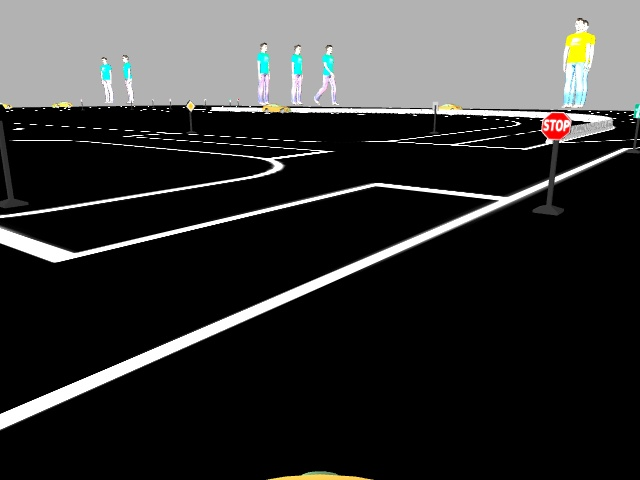Stop: (540, 111, 569, 141)
